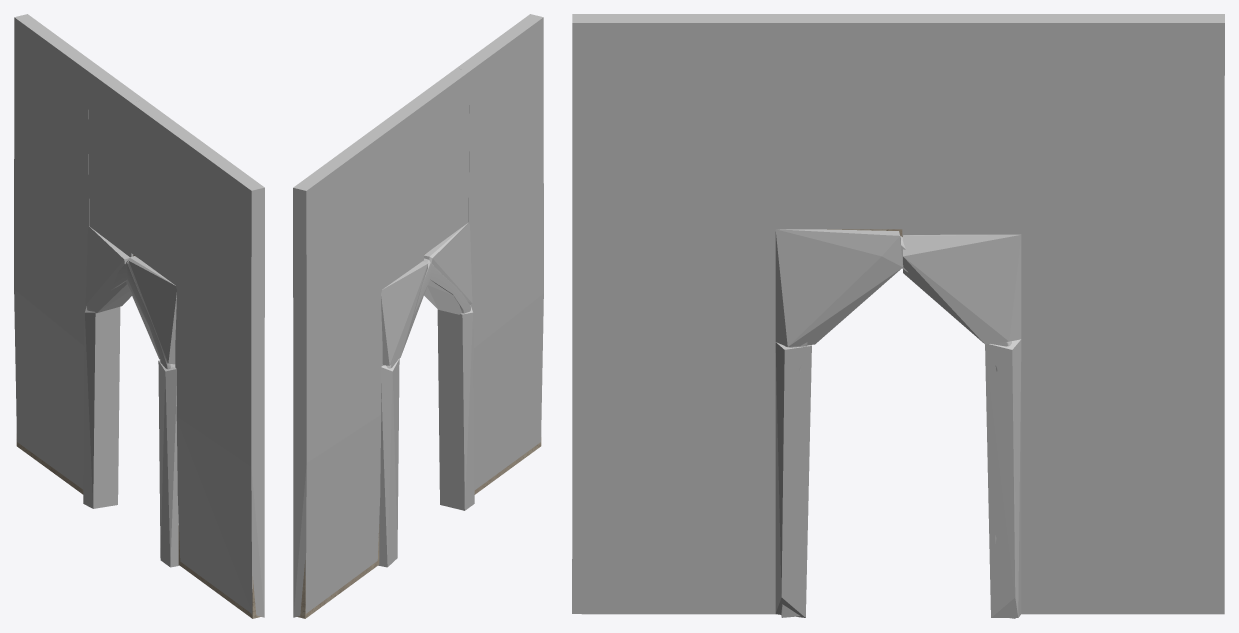
The model's file is SM_Wall_Door_01.fbx.
3 views of the same model, side by side, from view 1: azimuth 30°, elevation 25°; view 2: azimuth 150°, elevation 25°; view 3: azimuth 270°, elevation 25° (orthographic). The views are drawn at different scales.
Parts seen in each view (by area): view 1: SM_Wall_Door_01_ConvexHulls, SM_Wall_Door_01; view 2: SM_Wall_Door_01_ConvexHulls, SM_Wall_Door_01; view 3: SM_Wall_Door_01_ConvexHulls.
Part boxes in pixels (x1,y1,x2,y2): SM_Wall_Door_01_ConvexHulls: (14,14,264,617); SM_Wall_Door_01: (16,255,260,618); SM_Wall_Door_01_ConvexHulls: (293,14,543,617); SM_Wall_Door_01: (297,254,541,618); SM_Wall_Door_01_ConvexHulls: (572,14,1224,617).
Size of the model in its own units: 28.11 by 402 by 403.
